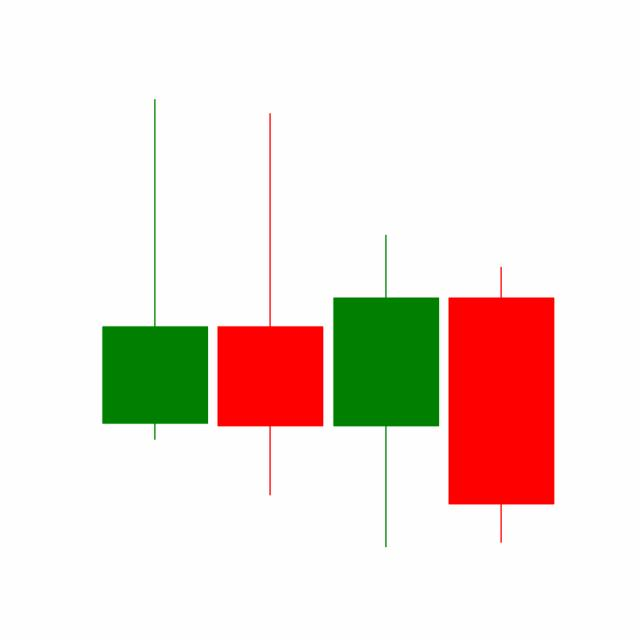Marubozu: (443, 263, 559, 545)
